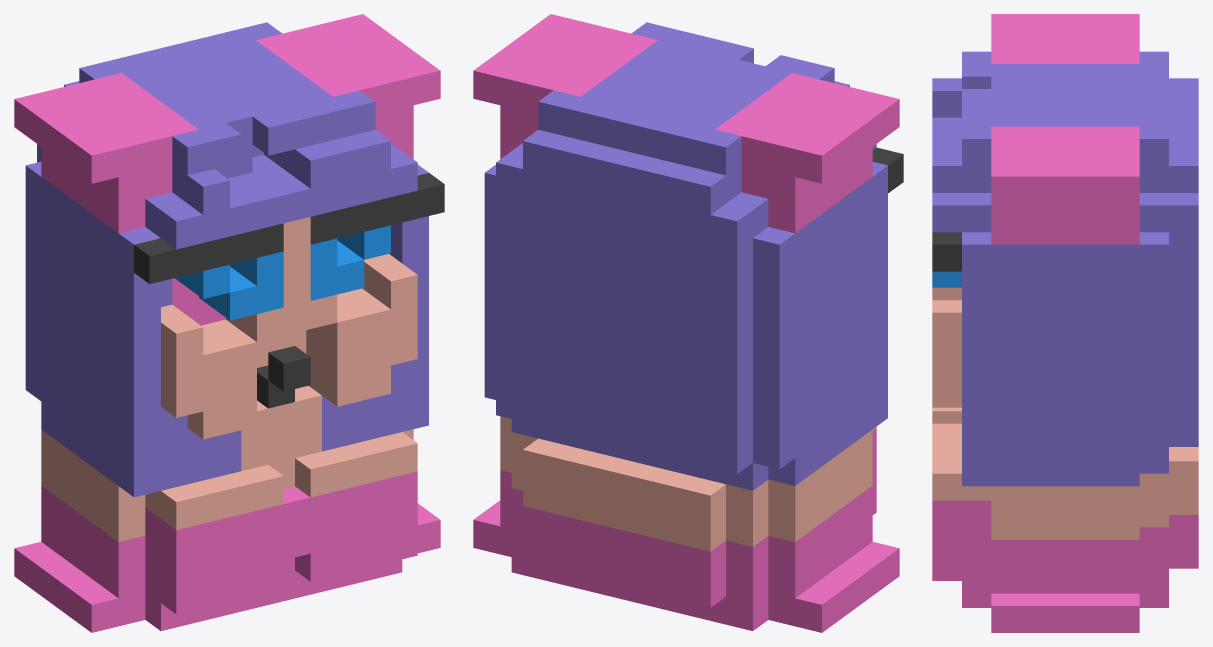
The picture shows the model from 3 angles, left to right: view 1: azimuth 30°, elevation 25°; view 2: azimuth 150°, elevation 25°; view 3: azimuth 270°, elevation 25°; orthographic projection. The views are drawn at different scales.
Visible parts, largest first — view 1: 47; view 2: 47; view 3: 47.
Boxes of the visible parts, x1,y1,x2,y2 form: 47: (14, 14, 444, 632); 47: (473, 14, 903, 632); 47: (932, 14, 1198, 632).
Bounding box in the file's own units: 130 × 170 × 90.
Materials: 1 (1 with a texture image).
